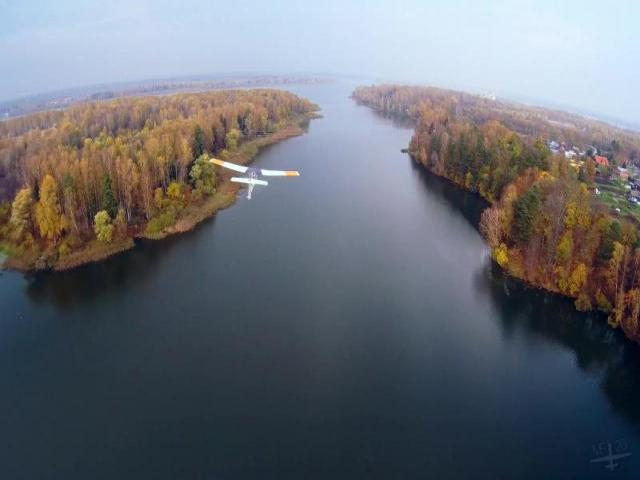hedef: (205, 140, 303, 212)
